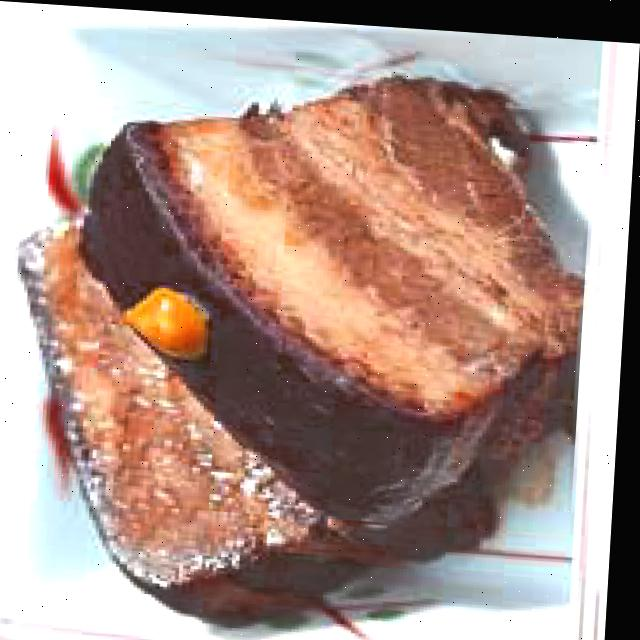猪肉菜式: (0, 26, 583, 640)
